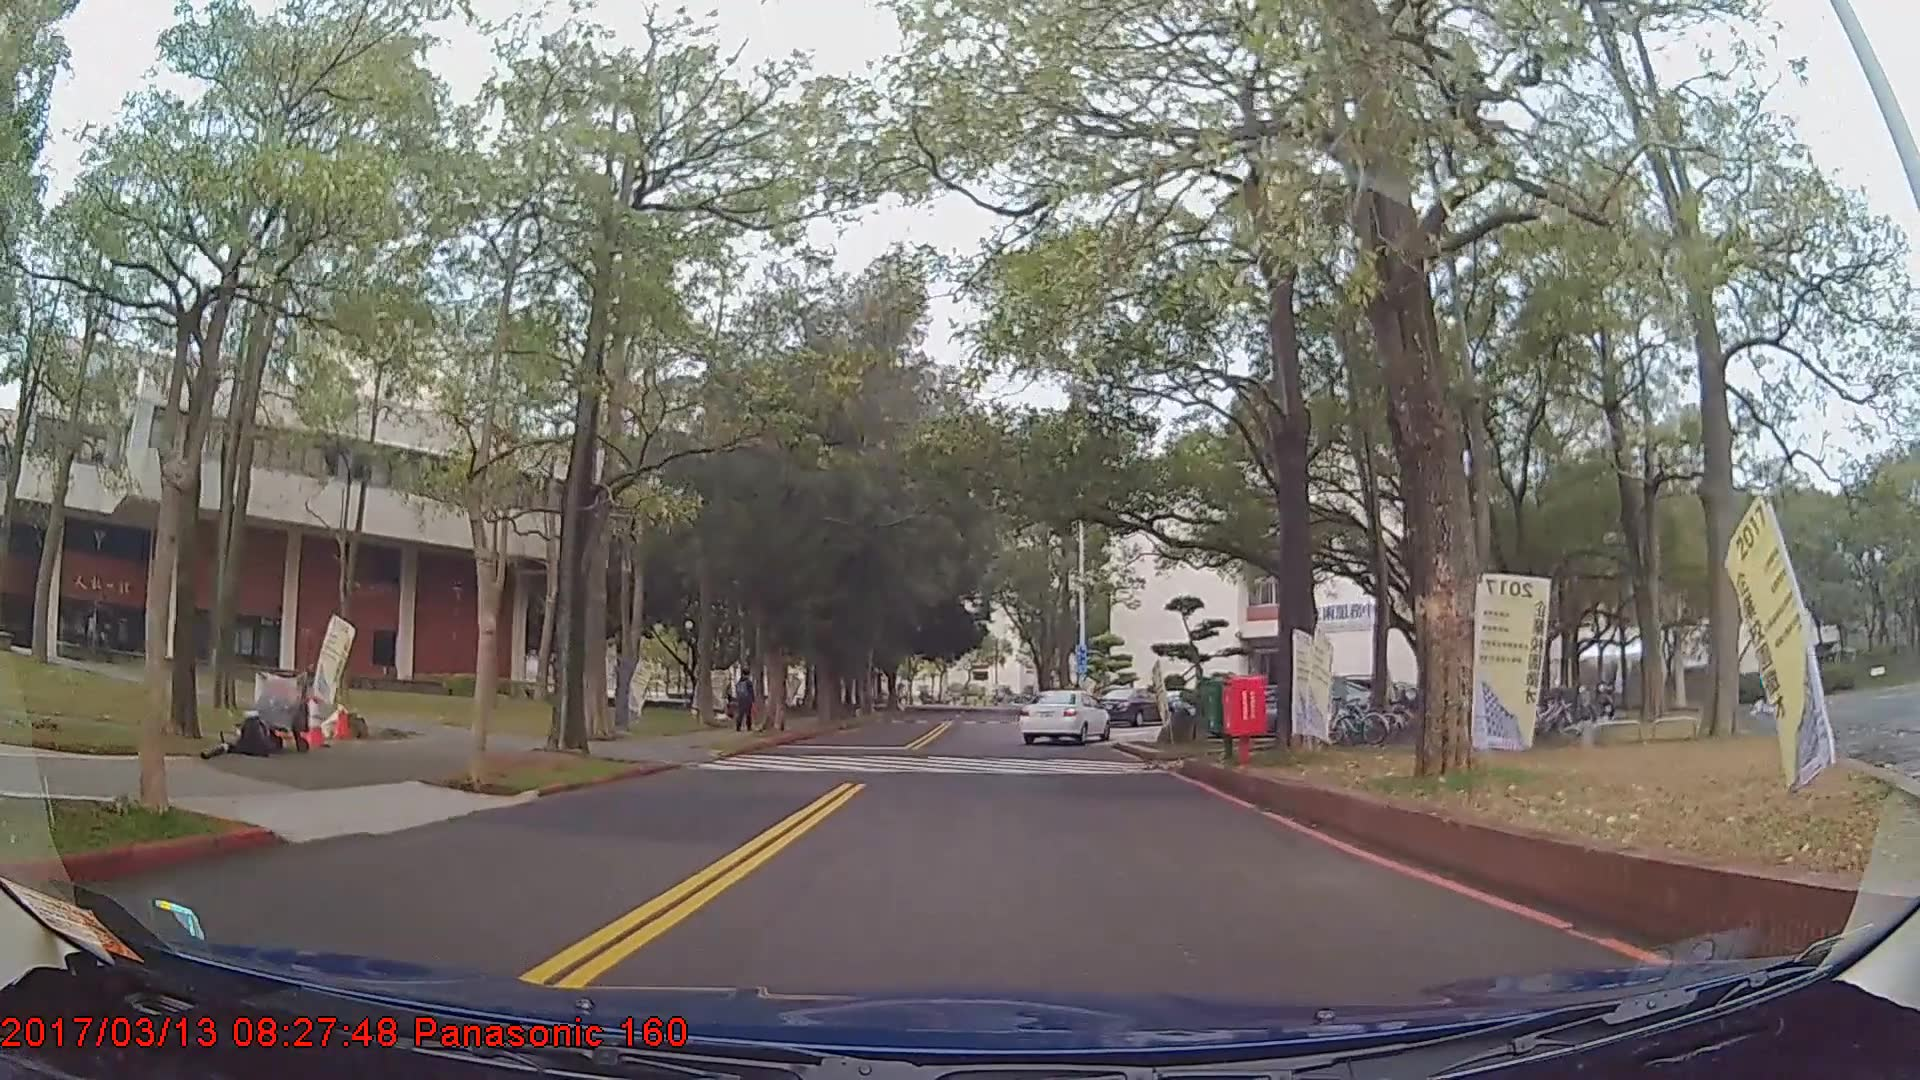pedestrian: (735, 667, 759, 730)
vehicle: (1019, 686, 1109, 746), (1095, 682, 1173, 724)
